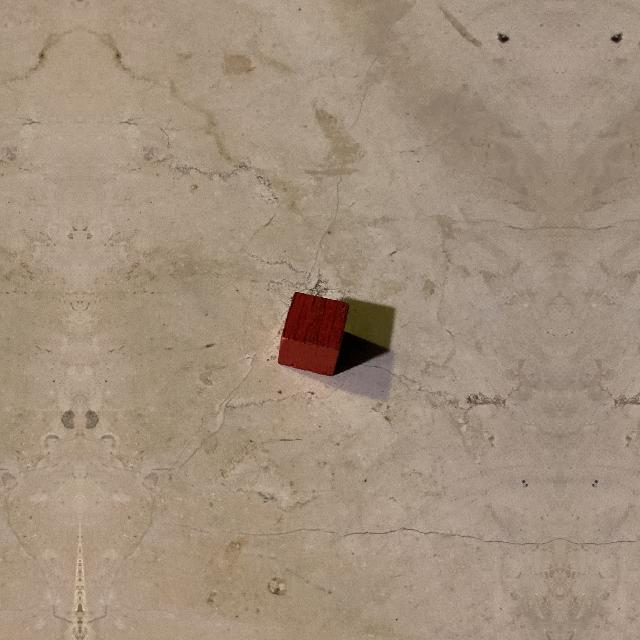red cube: (277, 293, 351, 378)
